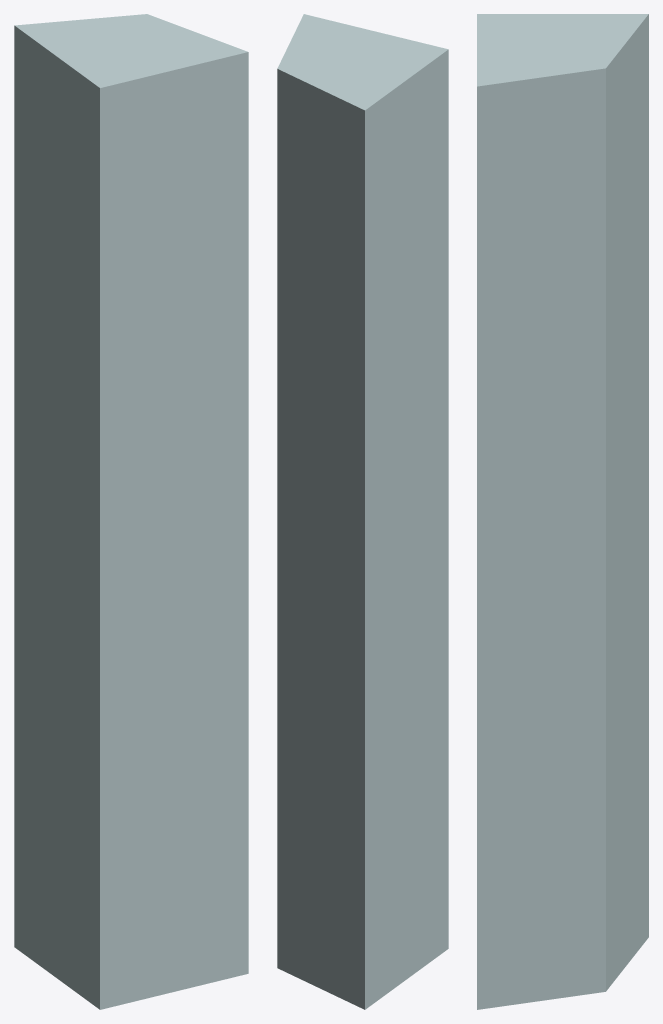
The model's file is cliff_corner_stone.glb.
3 views of the same model, side by side, from view 1: azimuth 30°, elevation 25°; view 2: azimuth 150°, elevation 25°; view 3: azimuth 270°, elevation 25° (orthographic). The views are drawn at different scales.
Parts seen in each view (by area): view 1: stone; view 2: stone; view 3: stone.
Boxes of the visible parts, left/top/right/bottom form: stone: left=14, top=14, right=248, bottom=1009; stone: left=277, top=14, right=448, bottom=1009; stone: left=477, top=14, right=648, bottom=1009.
Bounding box in the file's own units: 0.1685 × 1 × 0.1685.
